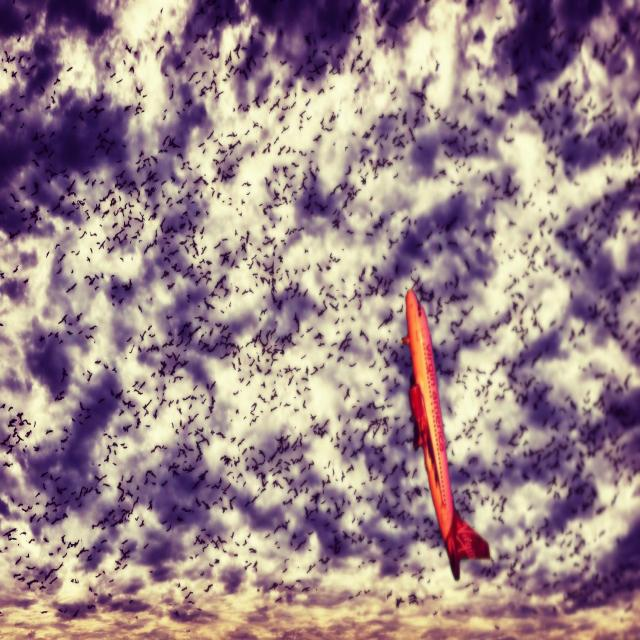airplane: (400, 287, 491, 581)
